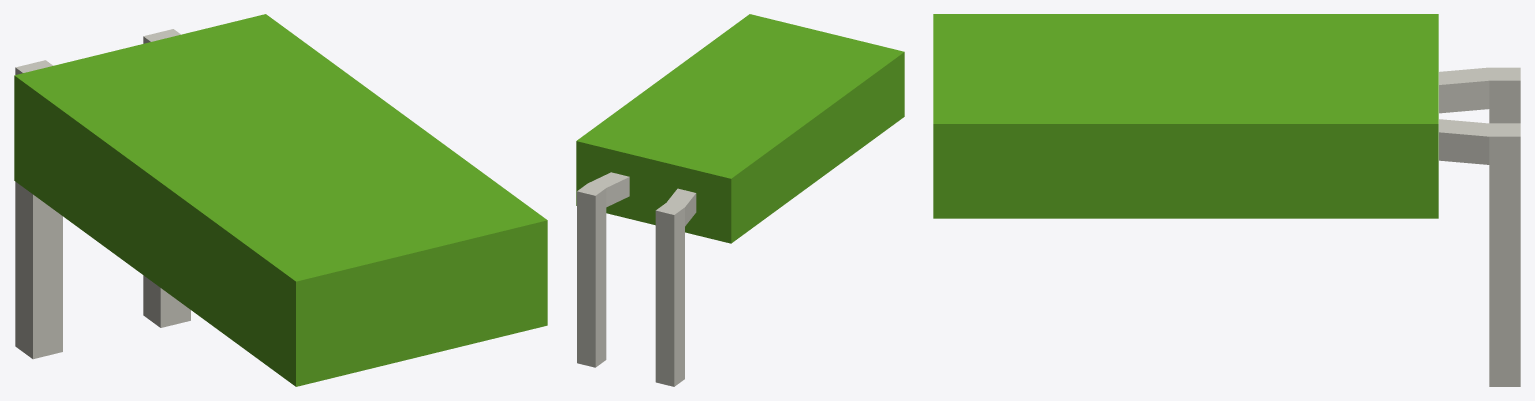
The model's file is kc-led_rectangular_w5.0mm_h2.0mm_horizontal_o1.27mm_z3.0mm.glb.
The picture shows the model from 3 angles, left to right: view 1: azimuth 30°, elevation 25°; view 2: azimuth 150°, elevation 25°; view 3: azimuth 270°, elevation 25°; orthographic projection. The views are drawn at different scales.
Parts seen in each view (by area): view 1: 0.16666666666666666_0.4166666666666667_0_0, 0.6666666666666666_0.6666666666666666_0.5833333333333334_0.8; view 2: 0.16666666666666666_0.4166666666666667_0_0, 0.6666666666666666_0.6666666666666666_0.5833333333333334_0.8; view 3: 0.16666666666666666_0.4166666666666667_0_0, 0.6666666666666666_0.6666666666666666_0.5833333333333334_0.8.
Boxes of the visible parts, x1,y1,x2,y2 form: 0.16666666666666666_0.4166666666666667_0_0: (14, 14, 547, 386); 0.6666666666666666_0.6666666666666666_0.5833333333333334_0.8: (15, 29, 190, 359); 0.16666666666666666_0.4166666666666667_0_0: (576, 14, 904, 243); 0.6666666666666666_0.6666666666666666_0.5833333333333334_0.8: (577, 172, 696, 386); 0.16666666666666666_0.4166666666666667_0_0: (933, 14, 1438, 218); 0.6666666666666666_0.6666666666666666_0.5833333333333334_0.8: (1439, 67, 1520, 386).
Bounding box in the file's own units: 0.5 × 0.6 × 1.13.
